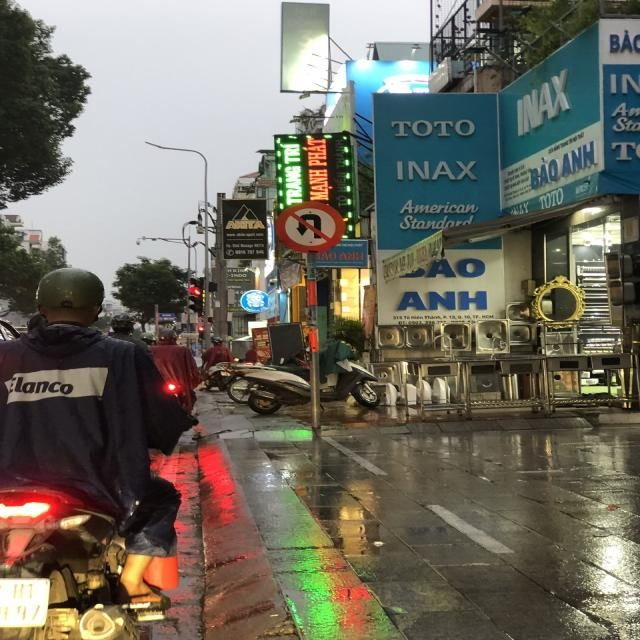Bien bao cam quay dau xe: (272, 198, 351, 254)
